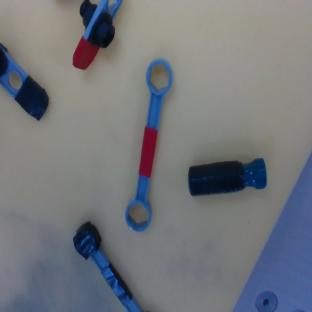part_1_bad: (0, 44, 57, 123)
part_2_bad: (186, 157, 268, 198)
part_3_bad: (67, 219, 142, 312)
part_3_good: (122, 57, 175, 233)
